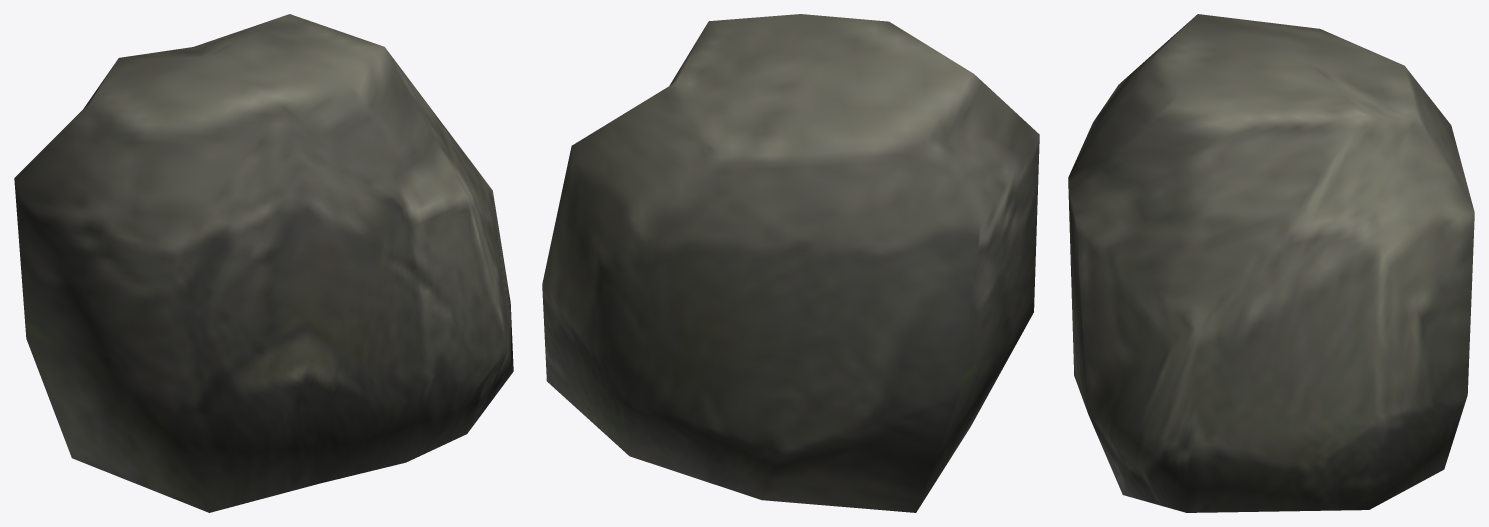
Rendered from Rock.fbx.
3 views of the same model, side by side, from view 1: azimuth 30°, elevation 25°; view 2: azimuth 150°, elevation 25°; view 3: azimuth 270°, elevation 25° (orthographic).
Visible parts, largest first — view 1: BG_Rock_01; view 2: BG_Rock_01; view 3: BG_Rock_01.
Part boxes in pixels (x1=…): BG_Rock_01: x1=14, y1=14, x2=513, y2=512; BG_Rock_01: x1=542, y1=14, x2=1039, y2=512; BG_Rock_01: x1=1068, y1=14, x2=1474, y2=512.
Bounding box in the file's own units: 217 × 191 × 179.
